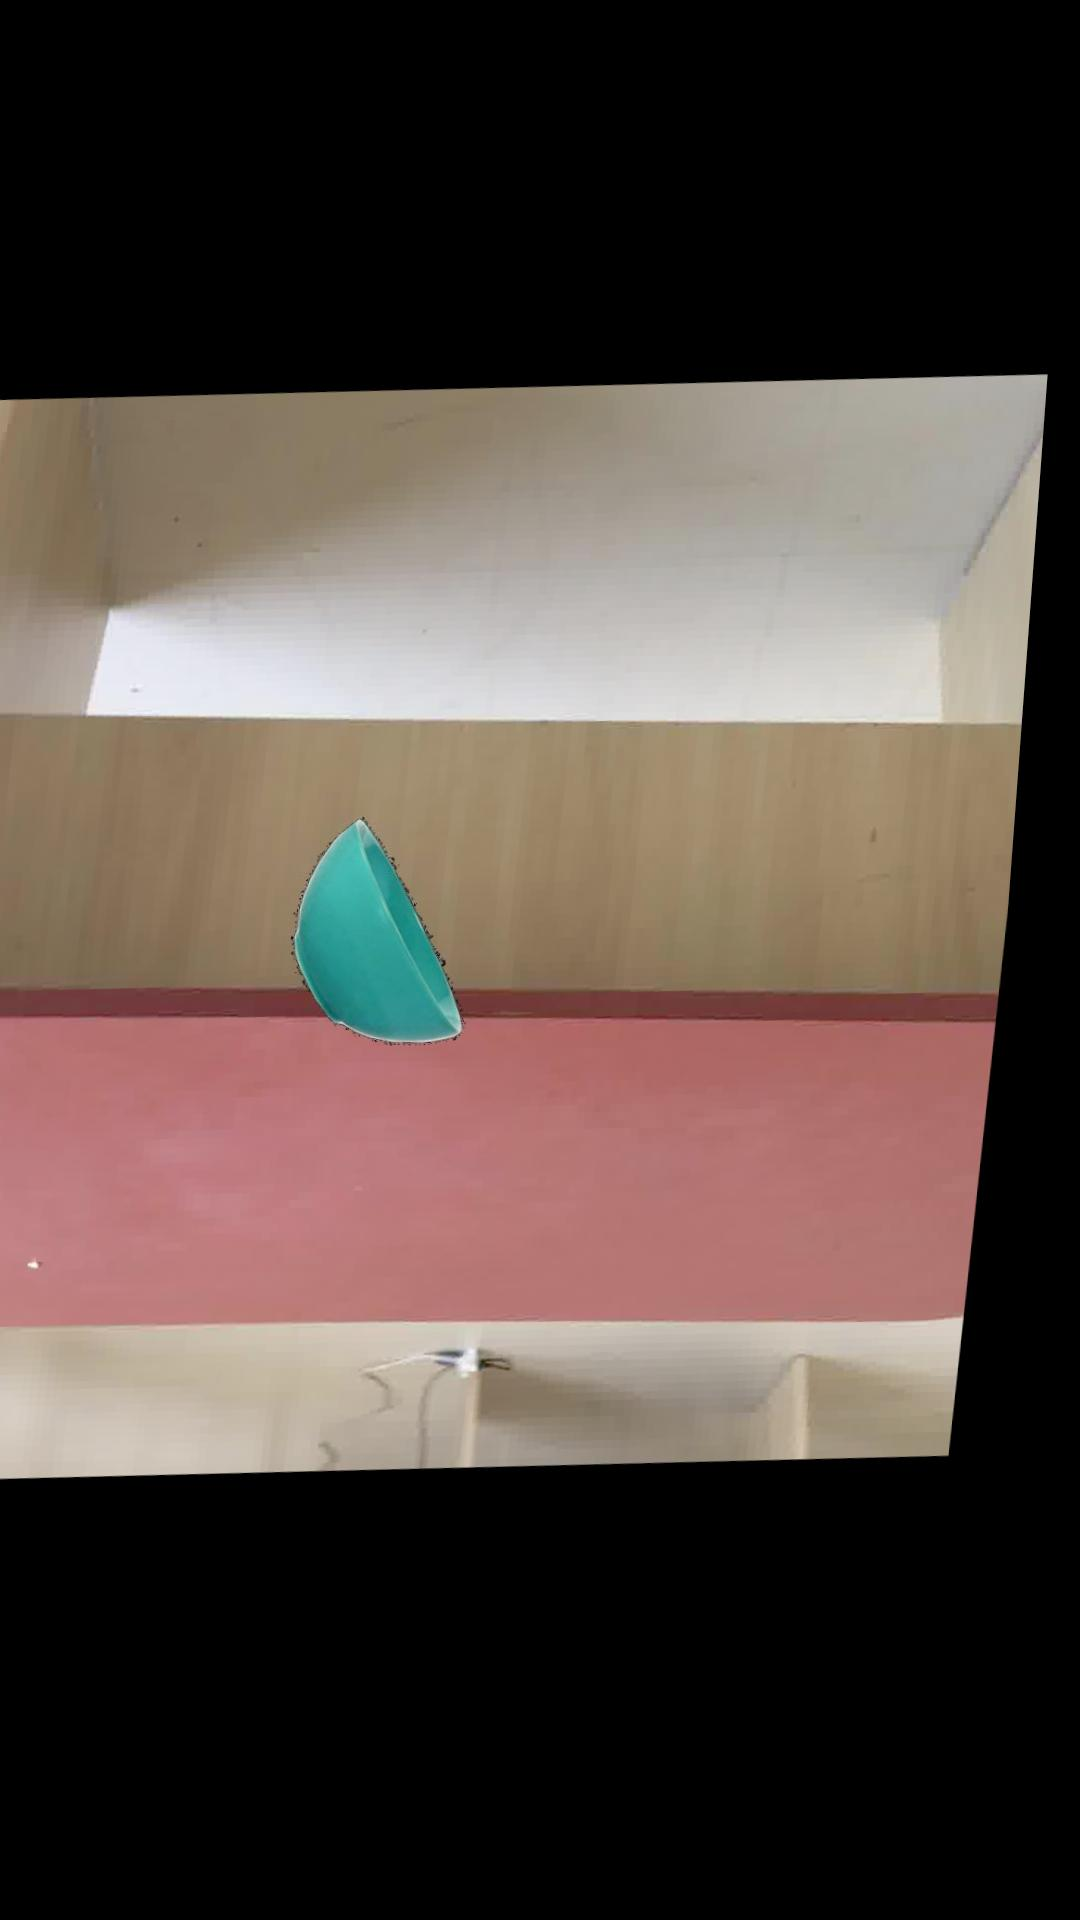bowl: (303, 823, 477, 1050)
